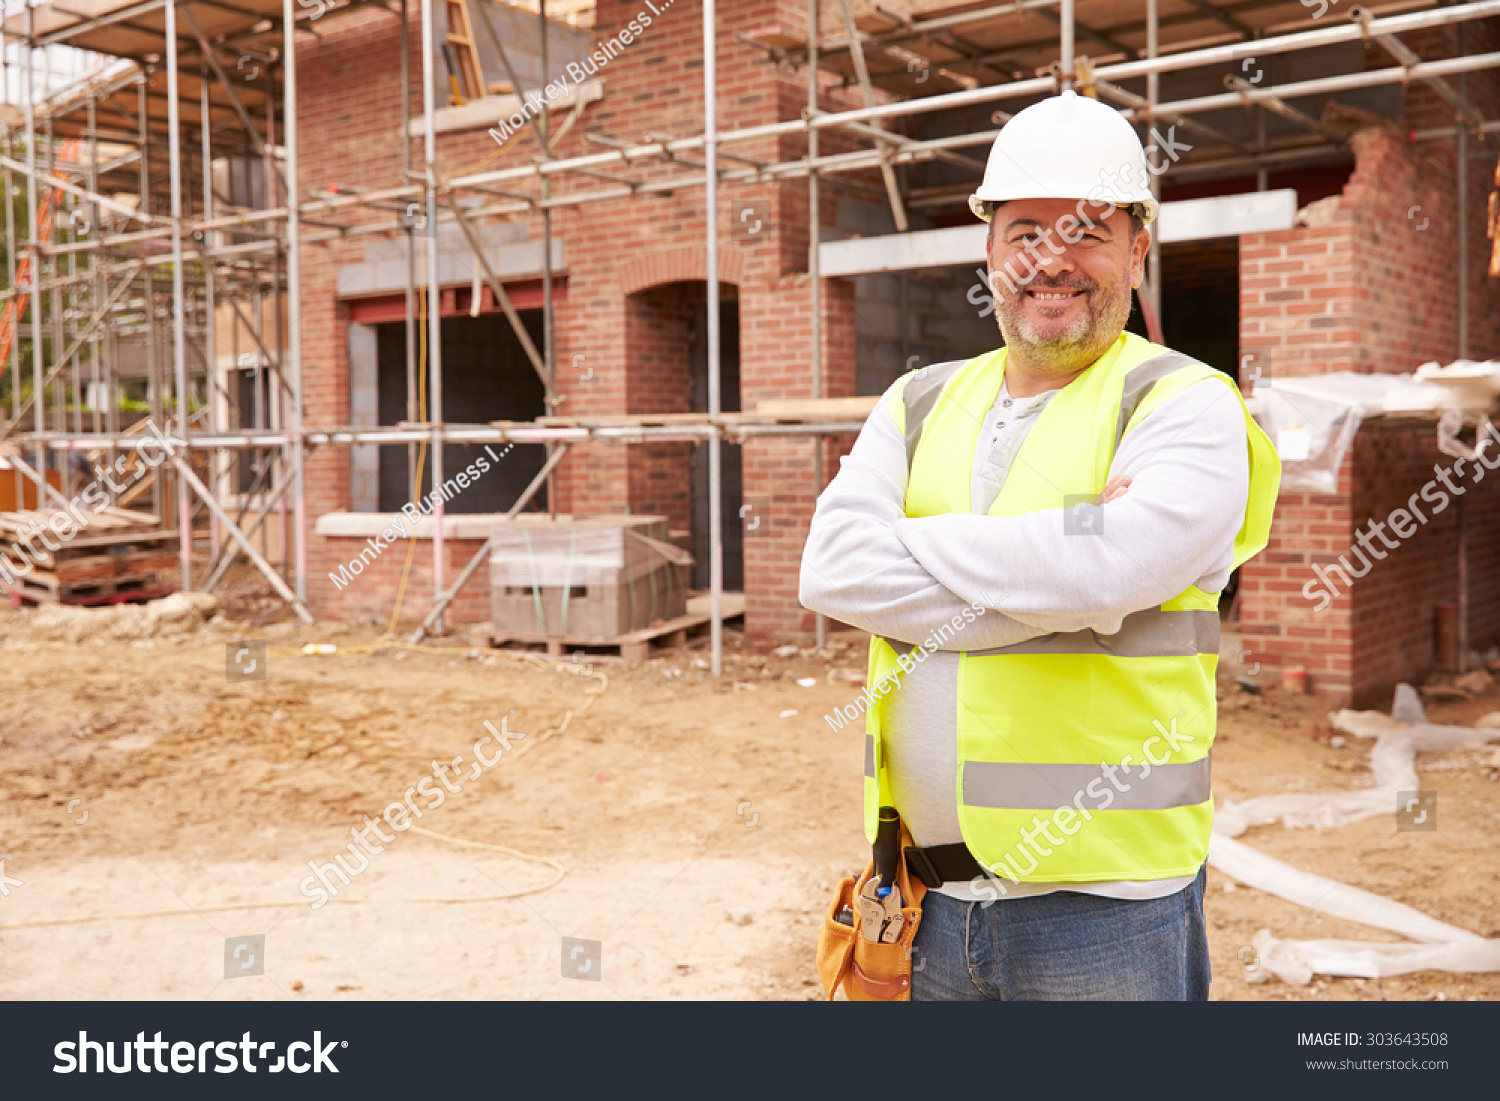With Helmet: (960, 89, 1163, 379)
